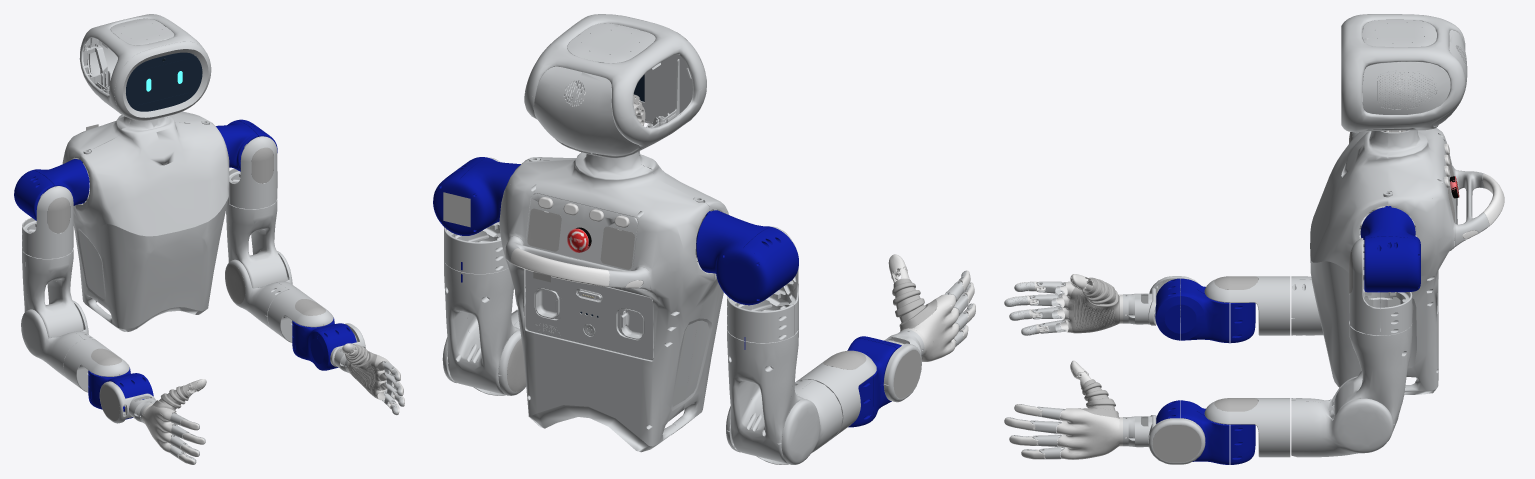
The model's file is rp1-upper-body-web-lod.glb.
3 views of the same model, side by side, from view 1: azimuth 30°, elevation 25°; view 2: azimuth 150°, elevation 25°; view 3: azimuth 270°, elevation 25° (orthographic). The views are drawn at different scales.
Visible parts, largest first — view 1: chest-1.001, 上手臂下-0914.001, 上手臂下-0914, chest-2, InteractiveHead-2.001, arm-2.004, arm-2.005, InteractiveHead-1, arm-1.004, InteractiveHead-1.002, arm-3.001, arm-3.006 (+24 smaller); view 2: chest-2, 电池本体2, 上手臂下2-0914.001, 局部修改补充-0916, InteractiveHead-1, InteractiveHead-2, InteractiveHead-3, chest-1.001, arm-1.004, InteractiveHead-2.002, arm-1.006, arm-4.004 (+22 smaller); view 3: chest-1.001, chest-2, arm-1.010, InteractiveHead-1, InteractiveHead-2.003, arm-3.003, arm-3.001, arm-3.006, hand-3.002, arm-2.006, InteractiveHead-3, 局部修改补充-0916 (+21 smaller).
Boxes of the visible parts, box(x1,y1,x2,y2) form: chest-1.001: box(76, 117, 229, 331); 上手臂下-0914.001: box(25, 249, 83, 338); 上手臂下-0914: box(229, 199, 287, 288); chest-2: box(62, 111, 211, 317); InteractiveHead-2.001: box(114, 41, 211, 120); arm-2.004: box(25, 186, 73, 258); arm-2.005: box(229, 136, 277, 209); InteractiveHead-1: box(80, 14, 207, 92); arm-1.004: box(21, 309, 83, 379); InteractiveHead-1.002: box(136, 58, 191, 105); arm-3.001: box(267, 289, 333, 342); arm-3.006: box(63, 339, 129, 392); chest-2: box(499, 152, 714, 452); 电池本体2: box(525, 269, 653, 360); 上手臂下2-0914.001: box(727, 328, 794, 463); 局部修改补充-0916: box(444, 261, 510, 394); InteractiveHead-1: box(525, 14, 706, 117); InteractiveHead-2: box(534, 66, 639, 155); InteractiveHead-3: box(524, 54, 706, 158); chest-1.001: box(527, 151, 728, 434); arm-1.004: box(772, 380, 842, 464); InteractiveHead-2.002: box(567, 23, 655, 63); arm-1.006: box(716, 247, 769, 305); arm-4.004: box(696, 210, 770, 273); chest-1.001: box(1310, 131, 1388, 387); chest-2: box(1388, 128, 1457, 394); arm-1.010: box(1291, 398, 1393, 457); InteractiveHead-1: box(1348, 14, 1465, 104); InteractiveHead-2.003: box(1363, 61, 1450, 114); arm-3.003: box(1364, 236, 1415, 292); arm-3.001: box(1204, 398, 1290, 457); arm-3.006: box(1204, 276, 1290, 335); hand-3.002: box(1056, 408, 1119, 459); arm-2.006: box(1181, 278, 1229, 343); InteractiveHead-3: box(1348, 48, 1465, 132); 局部修改补充-0916: box(1379, 323, 1412, 430).
Size of the model in its own units: 0.448 by 0.5085 by 0.6516.
14 materials, 1 textured.
